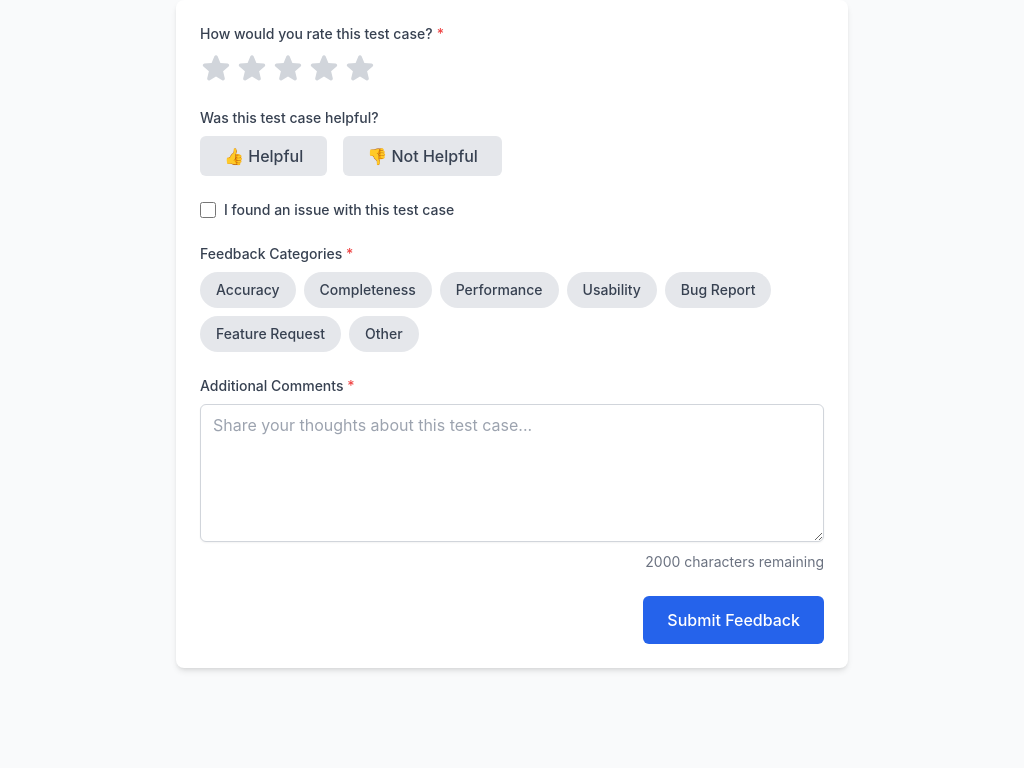
Test: TestCaseFeedback Component › Form Submission › should handle submission error
// Fill form
Click the button named "star" at (288, 68), box [272,52,304,84]
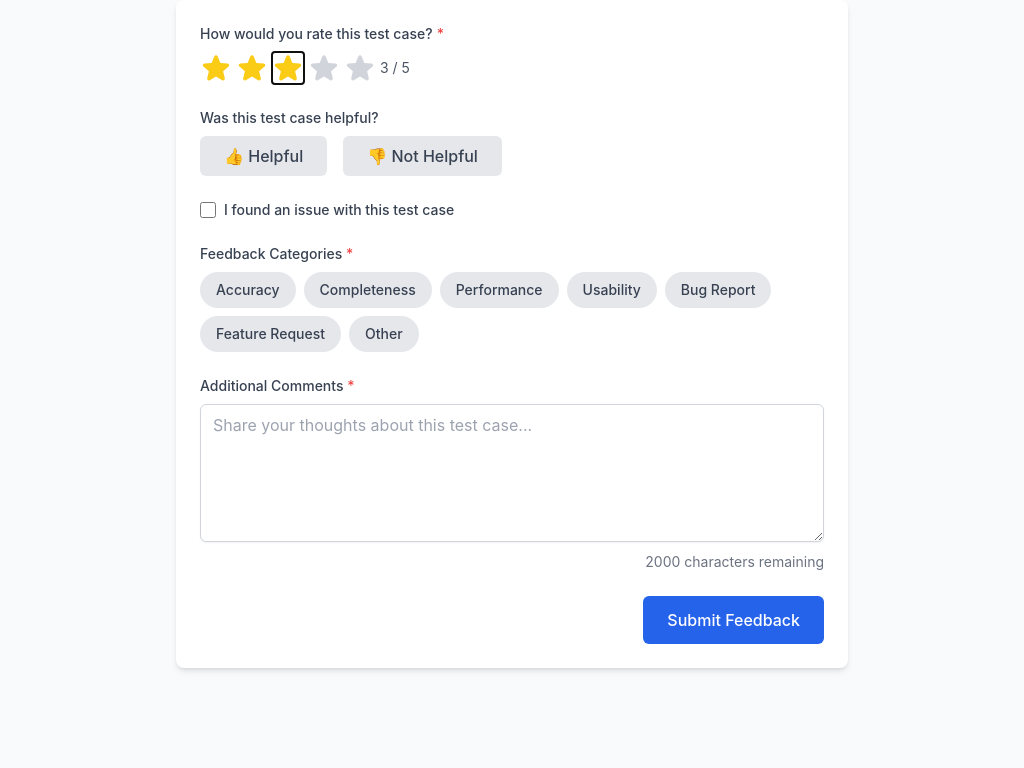
Type "Test comment" into the text box with placeholder "Share your thoughts about this test case..." at (512, 473), box [200,404,824,542]
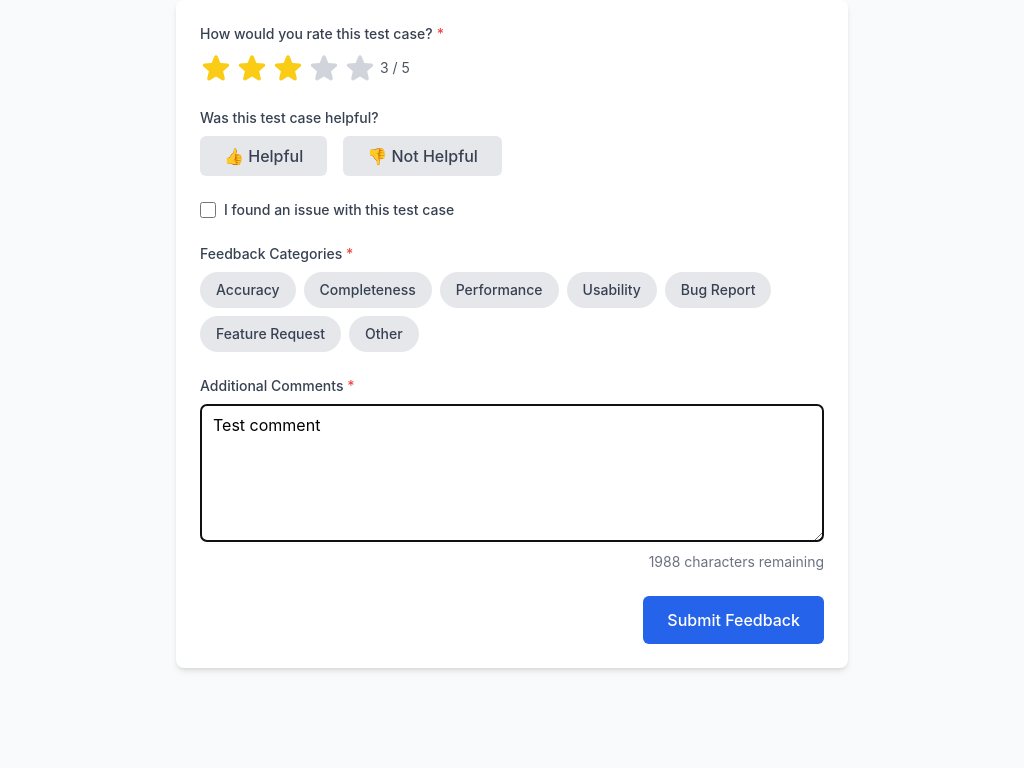
Click the button "Accuracy" at (248, 290), box [200,272,296,308]
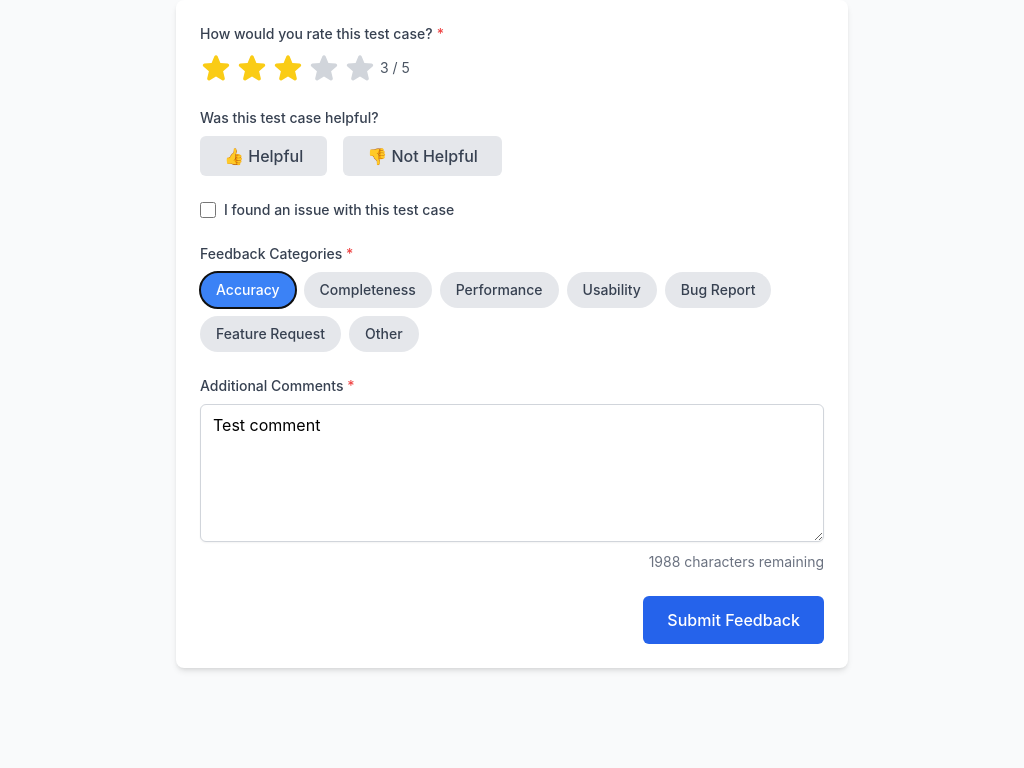
Click the button "Submit Feedback" at (734, 620), box [643,596,824,644]
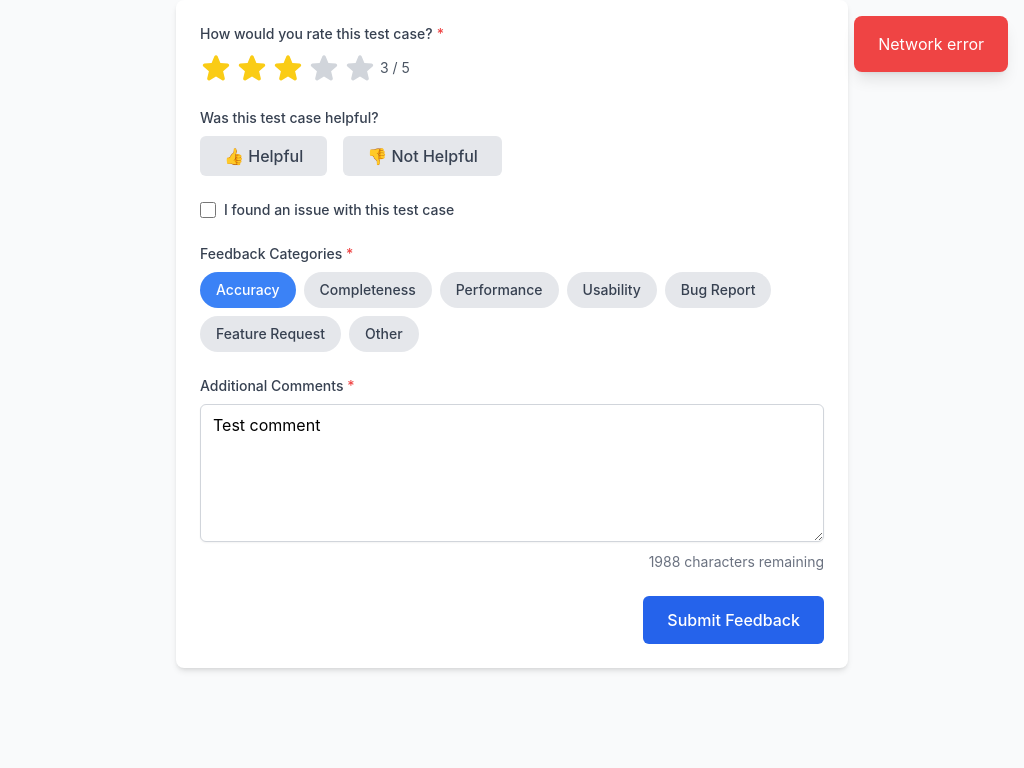
Result: the text "Network error" is shown at [854,16,1008,72]
